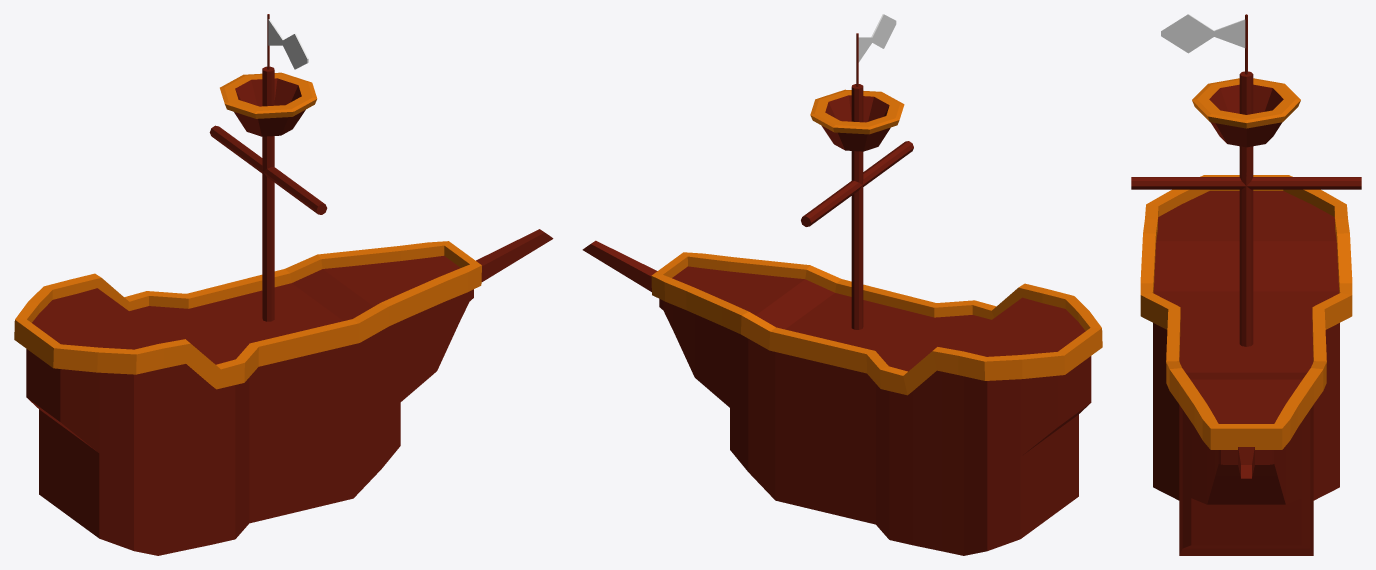
Rendered from FullShip.fbx.
3 renders of one model, left to right at view 1: azimuth 30°, elevation 25°; view 2: azimuth 150°, elevation 25°; view 3: azimuth 270°, elevation 25°, orthographic. The views are drawn at different scales.
Visible parts, largest first — view 1: Ship_Body; view 2: Ship_Body; view 3: Ship_Body.
Boxes of the visible parts, bbox=[...] form: Ship_Body: bbox=[14, 14, 553, 555]; Ship_Body: bbox=[582, 14, 1102, 555]; Ship_Body: bbox=[1131, 14, 1361, 555].
Bounding box in the file's own units: 1075 × 944 × 384.
